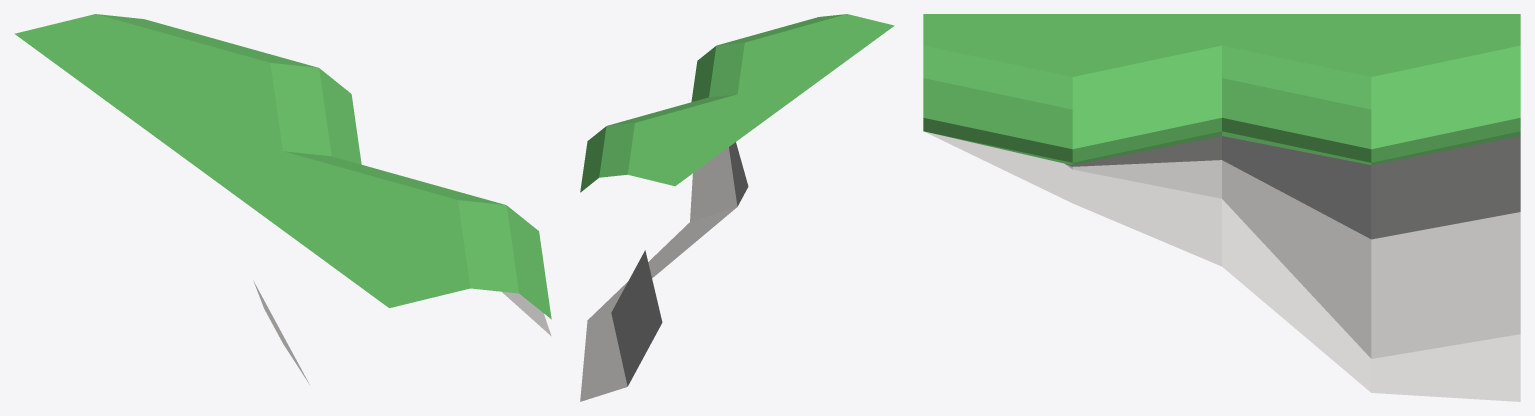
The model's file is Cliff_Terrain_Hill_Base_Top_Joined_Sharp.glb.
3 views of the same model, side by side, from view 1: azimuth 30°, elevation 25°; view 2: azimuth 150°, elevation 25°; view 3: azimuth 270°, elevation 25° (orthographic). The views are drawn at different scales.
Parts seen in each view (by area): view 1: Cliff_Terrain_Hill_Base_Top_Joined_Sharp; view 2: Cliff_Terrain_Hill_Base_Top_Joined_Sharp; view 3: Cliff_Terrain_Hill_Base_Top_Joined_Sharp.
Part boxes in pixels (left/top/right/bottom): Cliff_Terrain_Hill_Base_Top_Joined_Sharp: left=14, top=14, right=551, bottom=384; Cliff_Terrain_Hill_Base_Top_Joined_Sharp: left=580, top=14, right=894, bottom=401; Cliff_Terrain_Hill_Base_Top_Joined_Sharp: left=923, top=14, right=1520, bottom=401.
Size of the model in its own units: 0.75 by 1.2 by 2.
